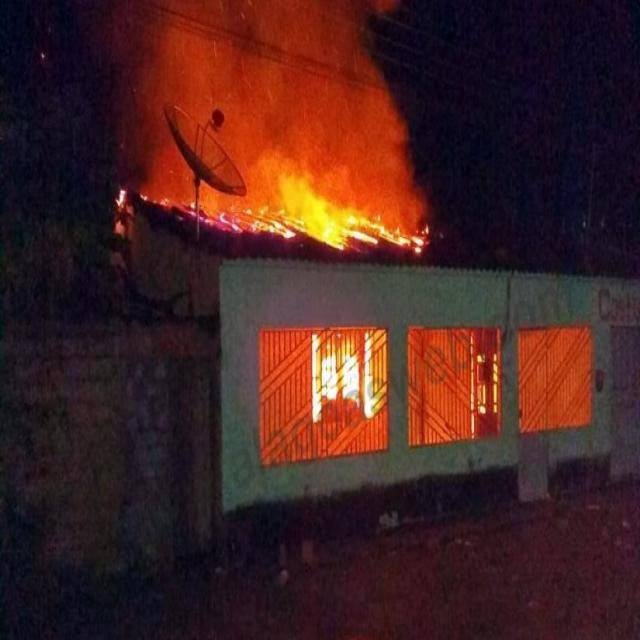Fire: (240, 164, 436, 254), (310, 328, 380, 421)
